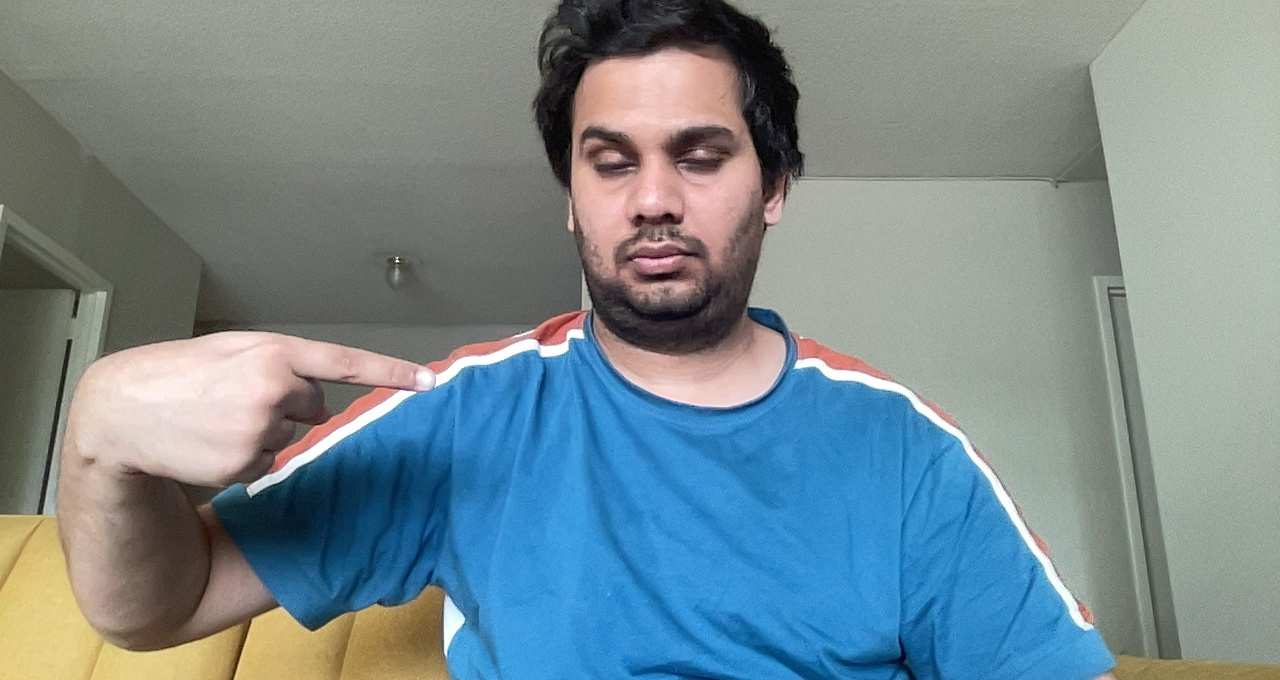fingerleft: (72, 327, 442, 495)
